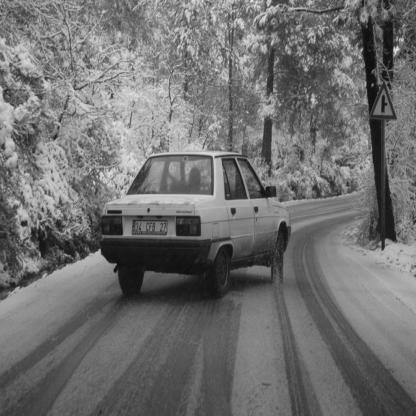ambulance: (85, 143, 309, 302)
